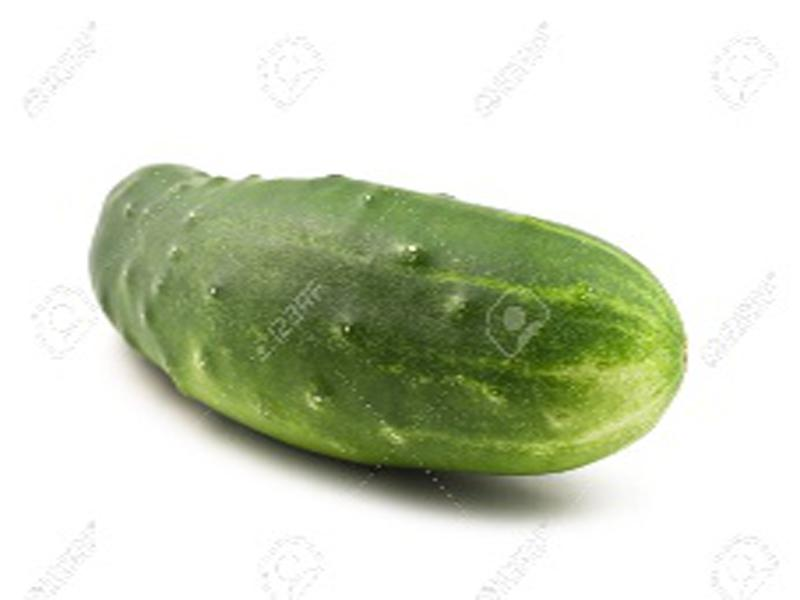Cucumber: (88, 164, 687, 478)
